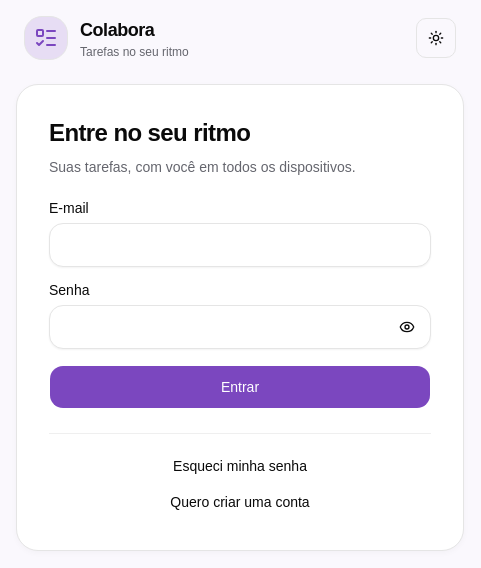
Test: toggles password visibility without losing the value or button focus
Step 1. Type "safe-test-password" into the password field labelled "Senha" → (240,326), box [49,304,431,348]
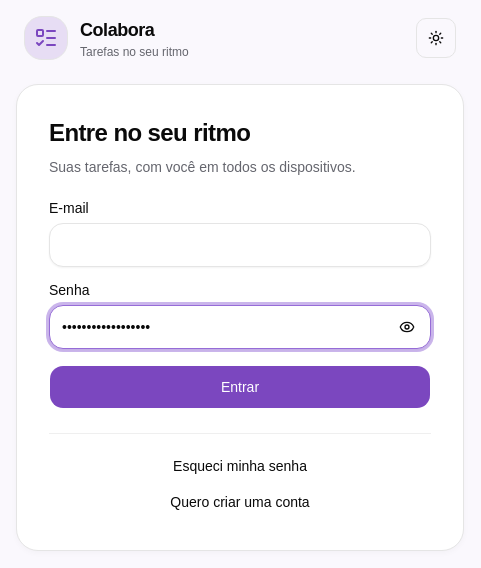
Step 2. Click the button named "Mostrar senha" → (407,326), box [387,306,427,346]
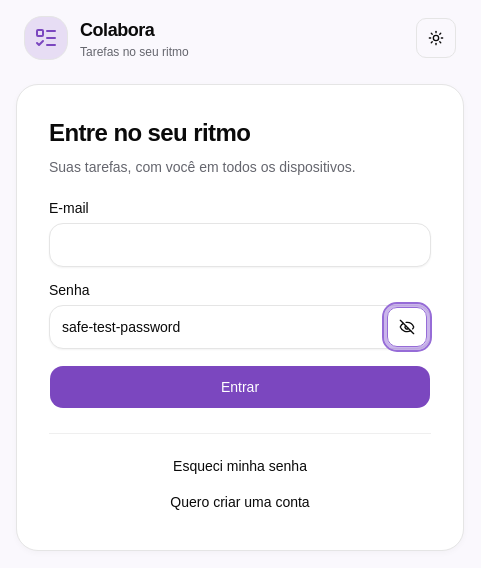
Result: the field labelled "Senha" shows its text at [49,304,431,348]
Step 3. Type keys " "
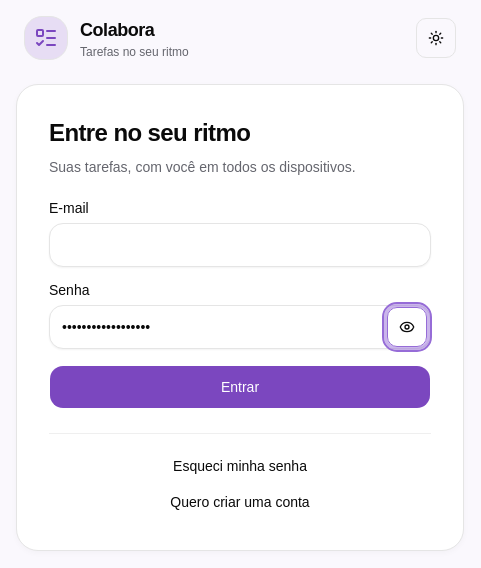
Result: the password field labelled "Senha" hides its text at [49,304,431,348]
